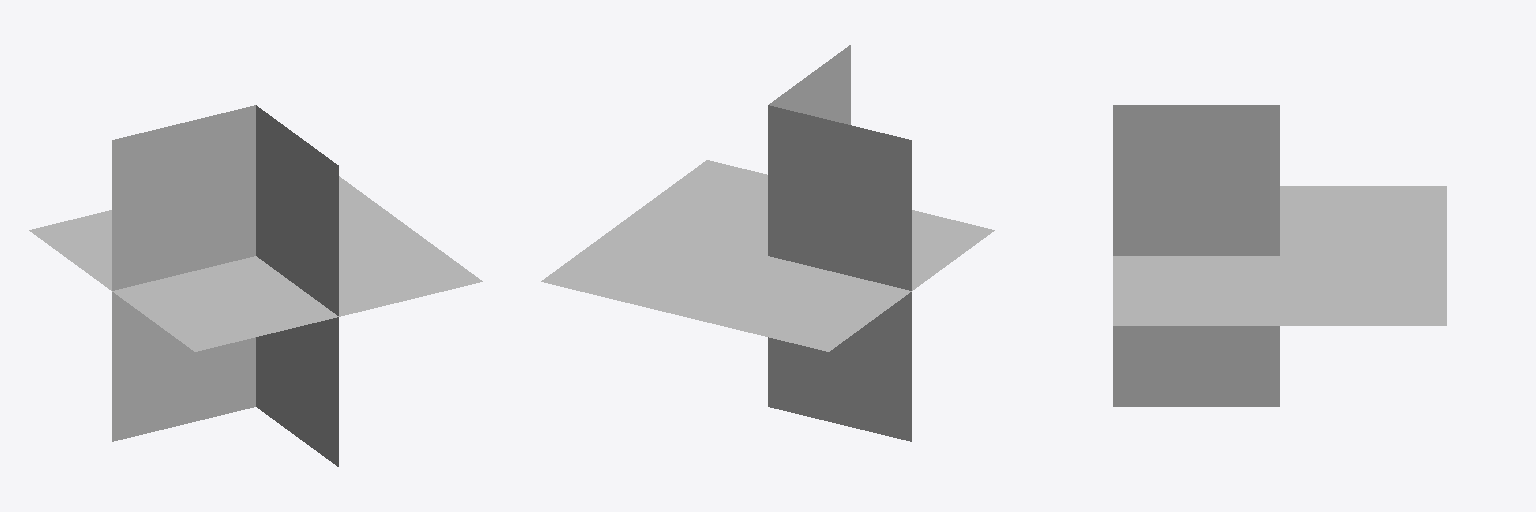
The picture shows the model from 3 angles: view 1: azimuth 30°, elevation 25°; view 2: azimuth 150°, elevation 25°; view 3: azimuth 270°, elevation 25°; orthographic projection.
Visible parts, largest first — view 1: 1011_0100_立方体.089; view 2: 1011_0100_立方体.089; view 3: 1011_0100_立方体.089.
Part boxes in pixels (left/top/right/bottom): 1011_0100_立方体.089: left=29, top=105, right=482, bottom=466; 1011_0100_立方体.089: left=541, top=45, right=994, bottom=441; 1011_0100_立方体.089: left=1113, top=105, right=1446, bottom=406.
Size of the model in its own units: 1 by 1 by 1.